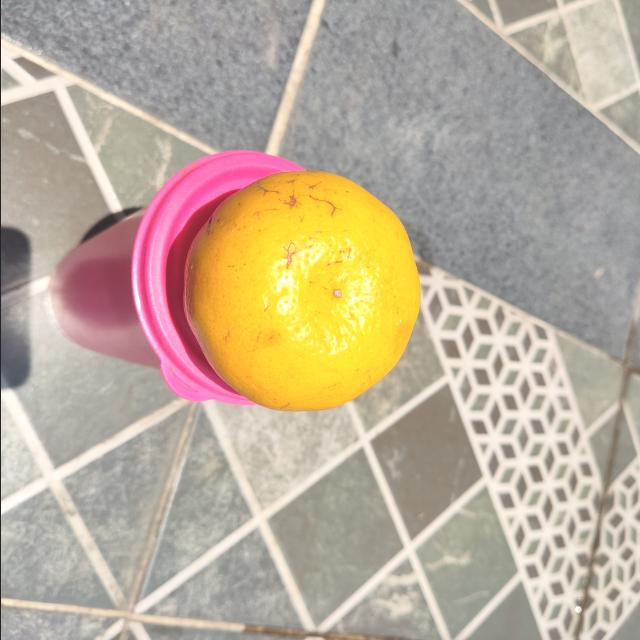orange: (178, 170, 422, 411)
